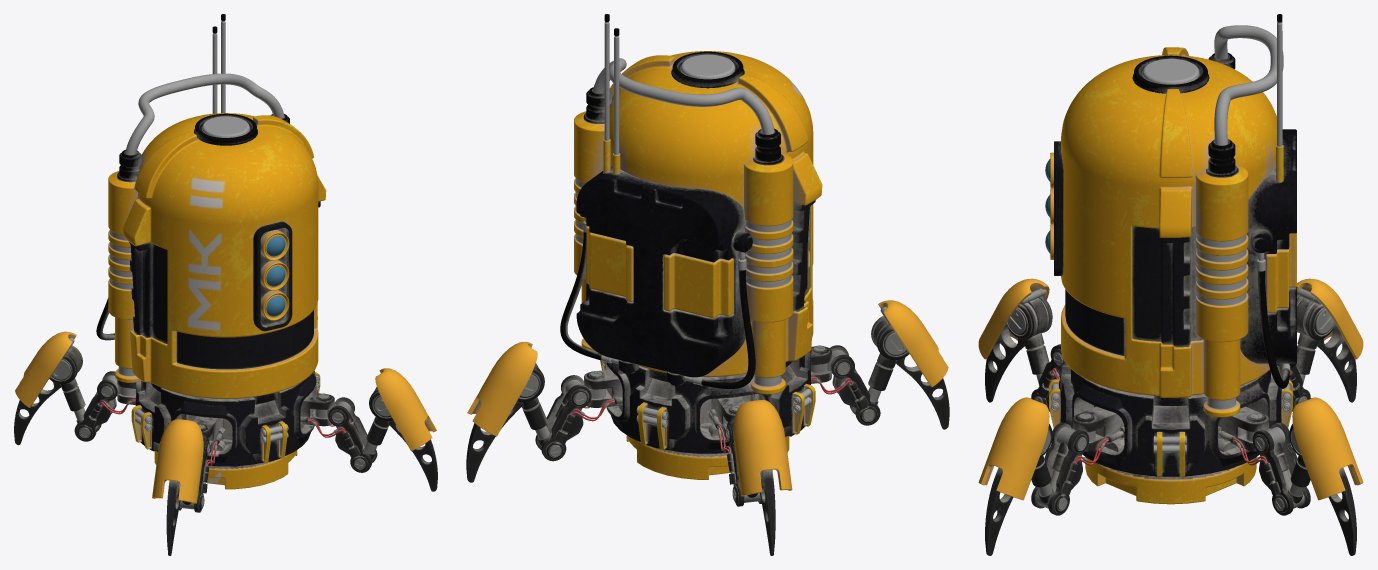
The picture shows the model from 3 angles, left to right: view 1: azimuth 30°, elevation 25°; view 2: azimuth 150°, elevation 25°; view 3: azimuth 270°, elevation 25°; orthographic projection. The views are drawn at different scales.
Parts seen in each view (by area): view 1: Body, Legs, Lenses; view 2: Body, Legs; view 3: Body, Legs.
Boxes of the visible parts, x1=… form: Body: x1=96, y1=14, x2=326, y2=489; Legs: x1=14, y1=331, x2=437, y2=555; Lenses: x1=266, y1=236, x2=285, y2=316; Body: x1=560, y1=14, x2=822, y2=479; Legs: x1=466, y1=300, x2=949, y2=555; Body: x1=1049, y1=14, x2=1296, y2=504; Legs: x1=978, y1=278, x2=1363, y2=555.
Size of the model in its own units: 37.41 by 52.4 by 37.4.
2 materials, 2 textured.
